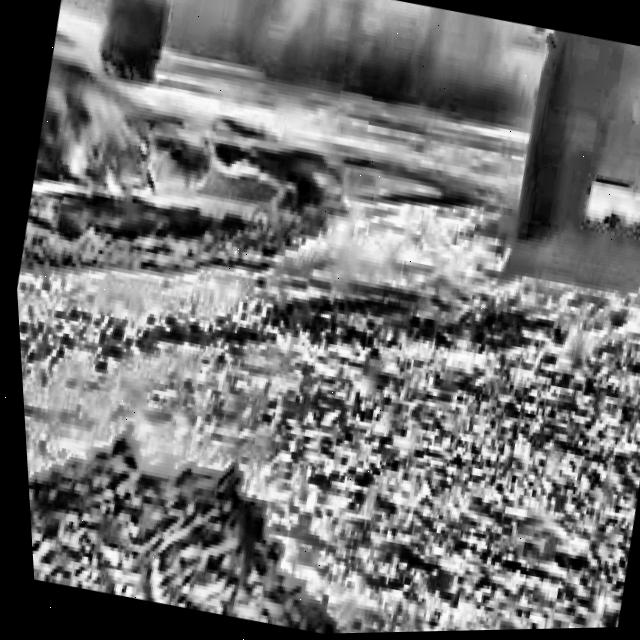dump_truck: (486, 25, 640, 260)
